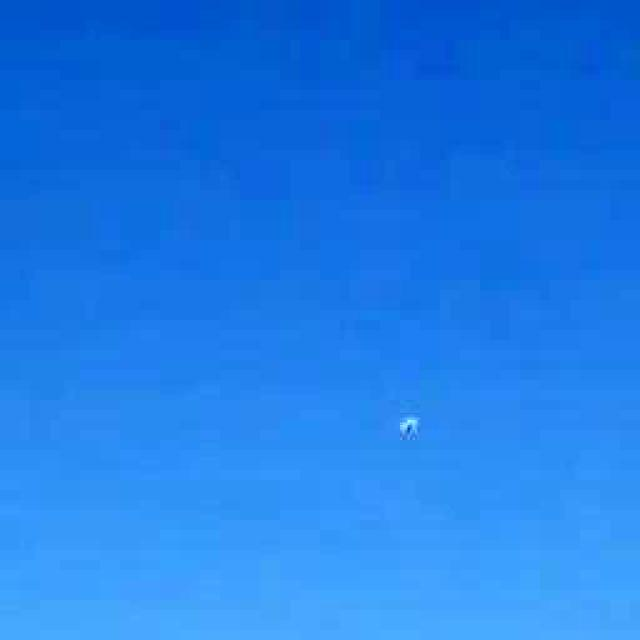bird: (381, 398, 444, 458)
